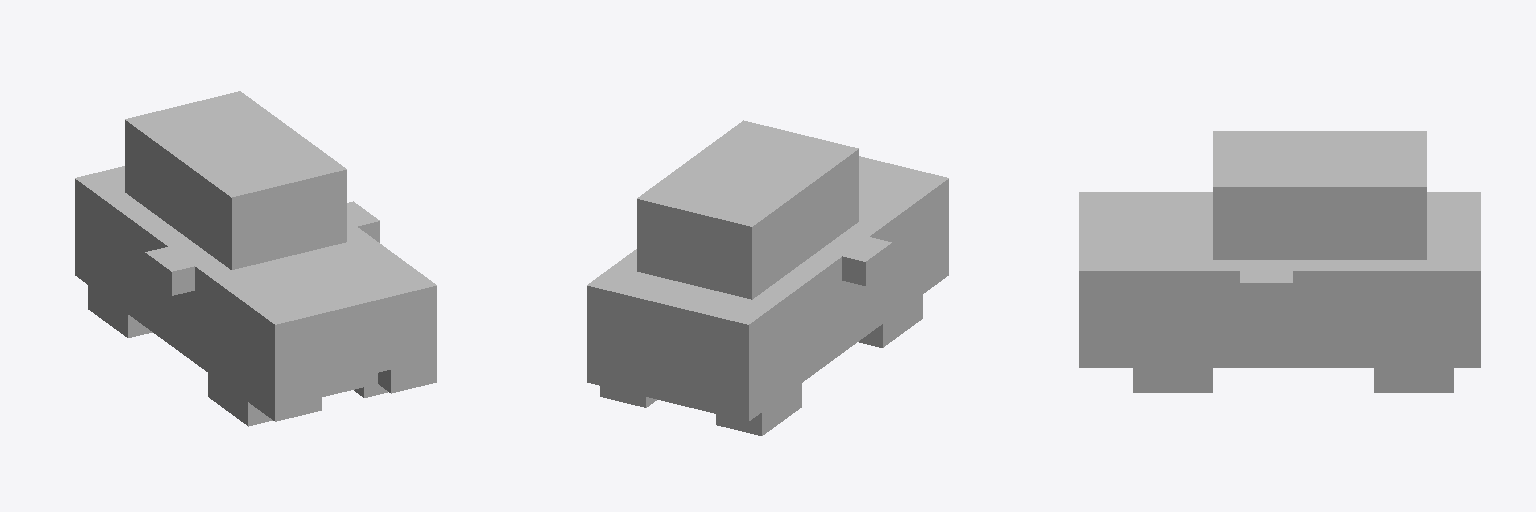
The picture shows the model from 3 angles: view 1: azimuth 30°, elevation 25°; view 2: azimuth 150°, elevation 25°; view 3: azimuth 270°, elevation 25°; orthographic projection.
Visible parts, largest first — view 1: Not_Tesla; view 2: Not_Tesla; view 3: Not_Tesla.
Boxes of the visible parts, <box> form: Not_Tesla: <box>75,91,436,426</box>; Not_Tesla: <box>587,120,948,435</box>; Not_Tesla: <box>1079,131,1480,392</box>.
Size of the model in its own units: 1.08 by 0.96 by 1.8.